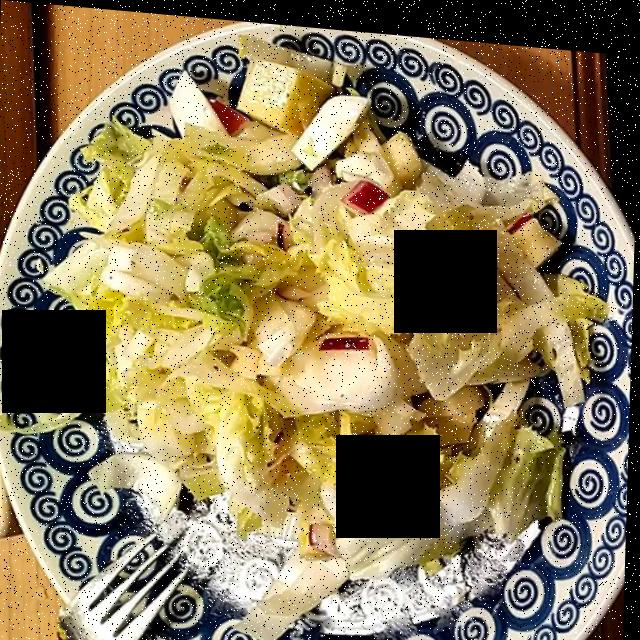onion: (339, 170, 390, 212)
salad-leaf-salad-green: (81, 51, 602, 566)
